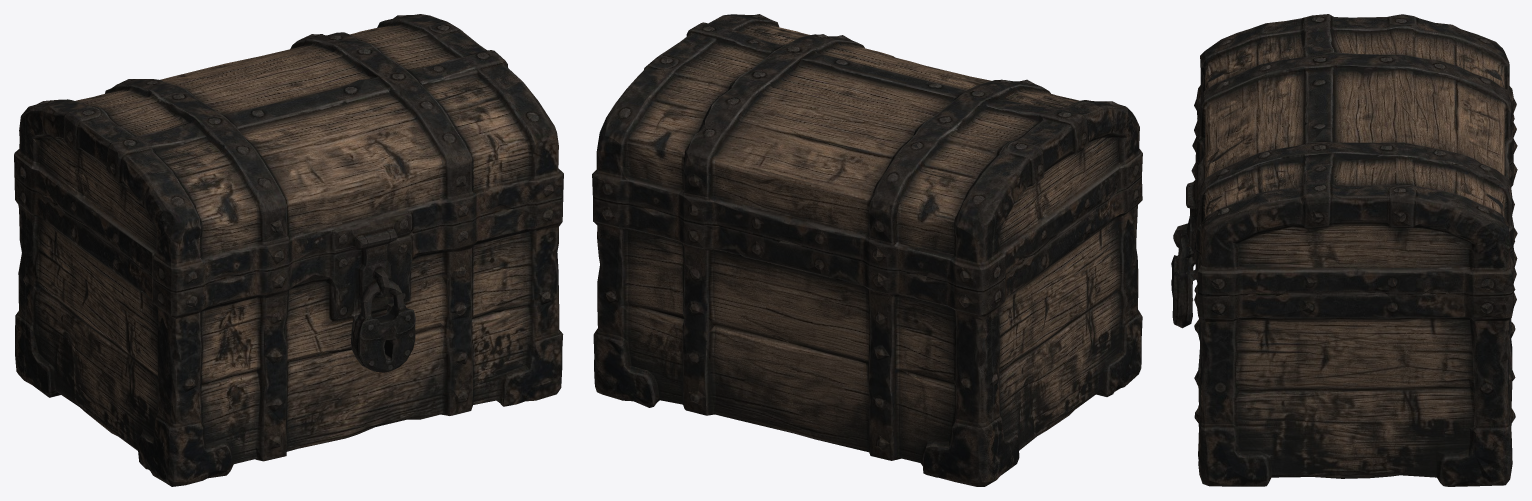
File: stash_chest.glb
3 renders of one model, left to right at view 1: azimuth 30°, elevation 25°; view 2: azimuth 150°, elevation 25°; view 3: azimuth 270°, elevation 25°, orthographic. The views are drawn at different scales.
Parts seen in each view (by area): view 1: lo; view 2: lo; view 3: lo.
Part boxes in pixels (x1=…): lo: x1=14, y1=14, x2=563, y2=486; lo: x1=592, y1=14, x2=1142, y2=486; lo: x1=1171, y1=14, x2=1517, y2=486.
Size of the model in its own units: 1.1 by 0.7956 by 0.8484.
1 material, 1 textured.
